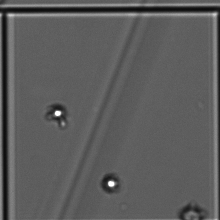Dead Cell: (178, 195, 204, 217)
Living Cell: (45, 100, 69, 130), (101, 169, 125, 196)
